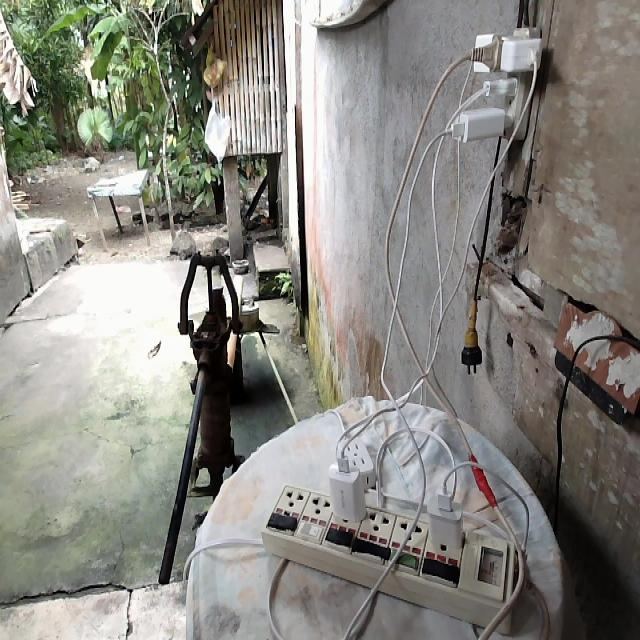-: (451, 21, 545, 140)
